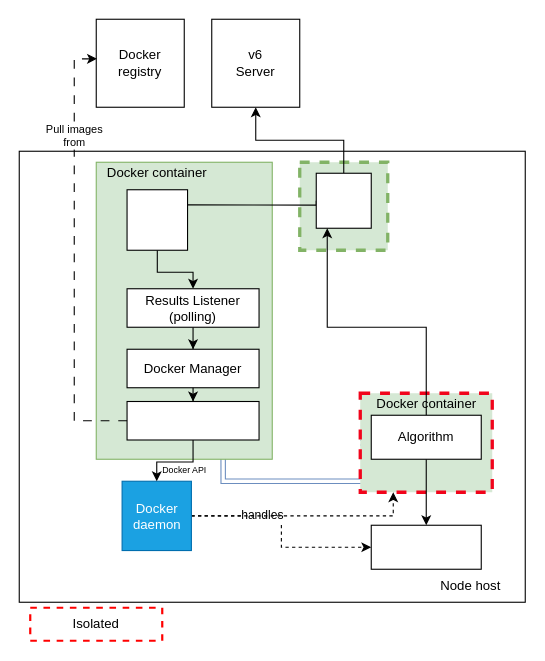
Image size: 545x661. Some labels were removed from this diagram. Here are the shapes that lost their labels. From the top down, the centre of each, then its label:
At point (157, 219): "v6 Node".
At point (343, 200): "Proxy Server".
At point (192, 420): "Task Manager".
At point (425, 546): "Named volume".
